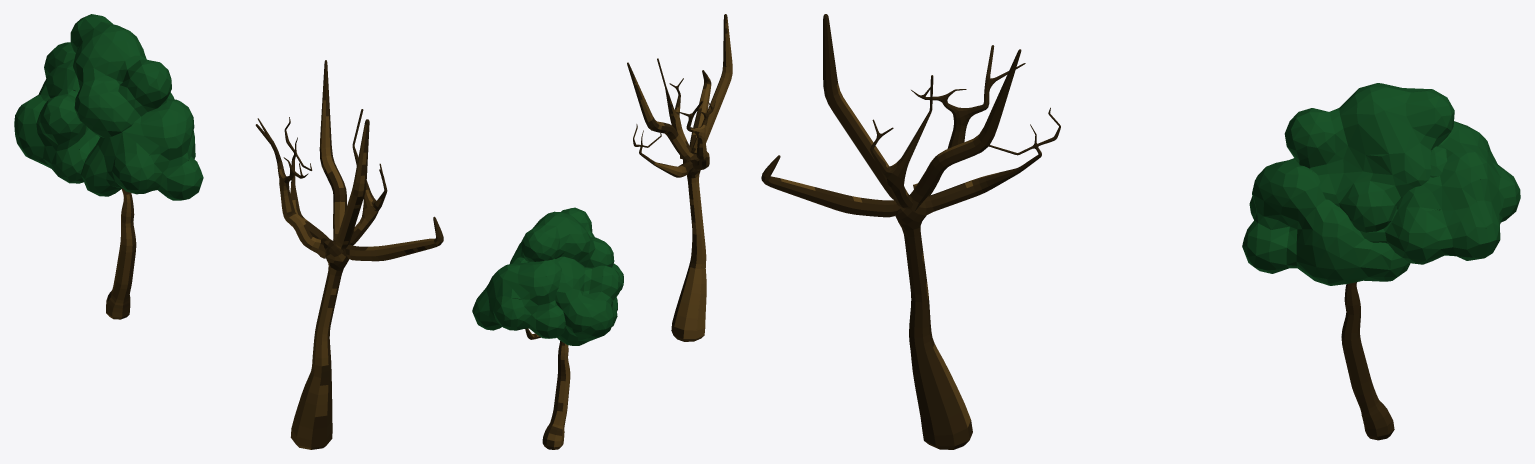
File: Arvores 02.fbx
3 renders of one model, left to right at view 1: azimuth 30°, elevation 25°; view 2: azimuth 150°, elevation 25°; view 3: azimuth 270°, elevation 25°, orthographic. The views are drawn at different scales.
Visible parts, largest first — view 1: Mball.016, Plane; view 2: Mball.016, Plane; view 3: Mball.016, Plane.
Part boxes in pixels (x1=…): Mball.016: x1=14, y1=14, x2=203, y2=200; Plane: x1=106, y1=60, x2=443, y2=449; Mball.016: x1=472, y1=207, x2=623, y2=345; Plane: x1=525, y1=14, x2=732, y2=449; Mball.016: x1=1242, y1=83, x2=1520, y2=285; Plane: x1=761, y1=14, x2=1394, y2=449.
Size of the model in its own units: 855 by 1934 by 3062.
Materials: 2 (2 with a texture image).
